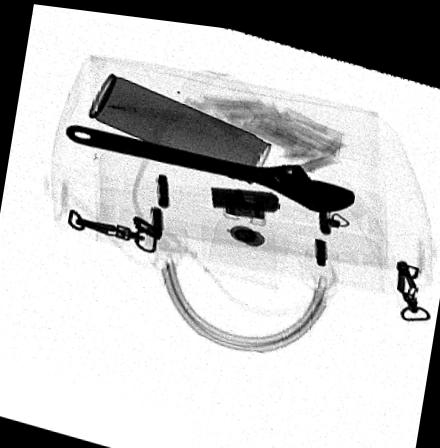Wrench: (62, 119, 359, 204)
